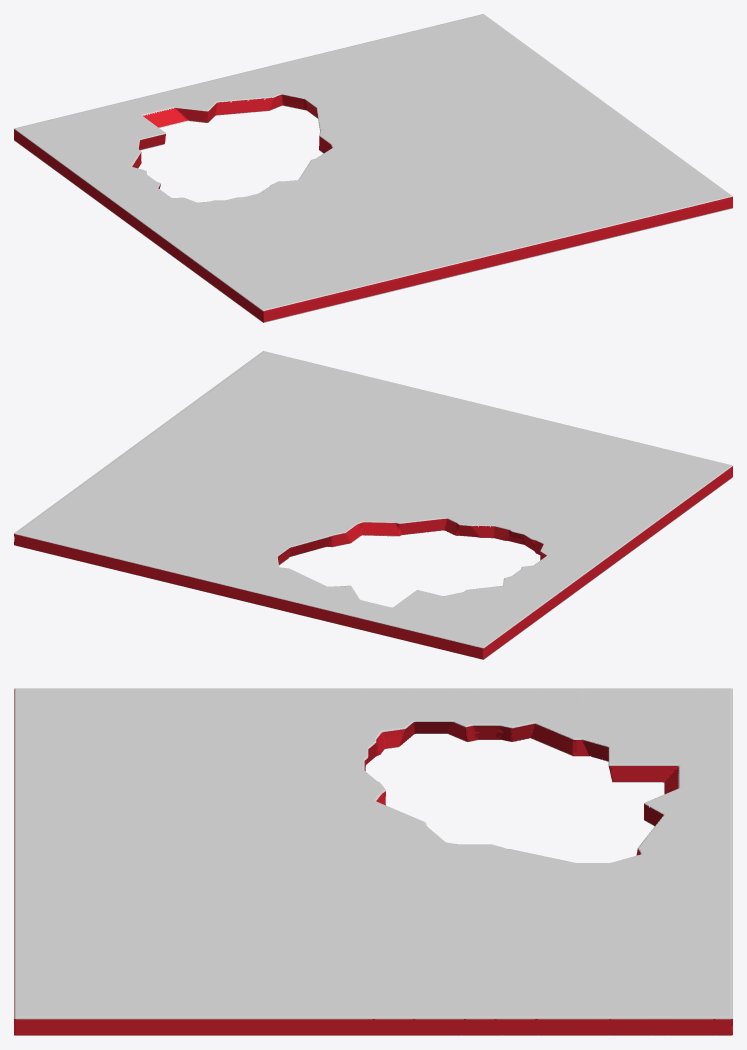
Rendered from RoofDebris 1.fbx.
3 renders of one model, top to bottom at view 1: azimuth 30°, elevation 25°; view 2: azimuth 150°, elevation 25°; view 3: azimuth 270°, elevation 25°, orthographic. The views are drawn at different scales.
Visible parts, largest first — view 1: BrokenRoof; view 2: BrokenRoof; view 3: BrokenRoof.
Part boxes in pixels (box(x1,y1,x2,y2)): BrokenRoof: box(14, 14, 732, 322); BrokenRoof: box(14, 351, 732, 659); BrokenRoof: box(14, 688, 732, 1035).
Size of the model in its own units: 7960 by 200 by 7323.
